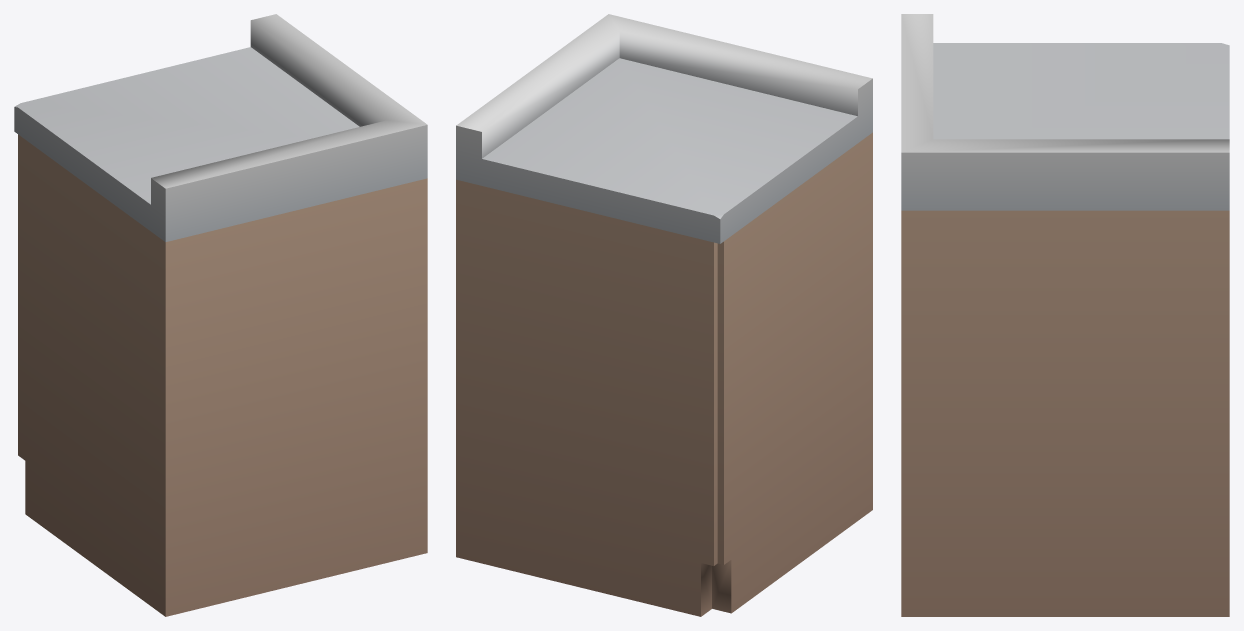
Rendered from cabinet-basic-corner.glb.
3 renders of one model, left to right at view 1: azimuth 30°, elevation 25°; view 2: azimuth 150°, elevation 25°; view 3: azimuth 270°, elevation 25°, orthographic. The views are drawn at different scales.
Visible parts, largest first — view 1: cabinet-basic-corner; view 2: cabinet-basic-corner; view 3: cabinet-basic-corner.
Boxes of the visible parts, x1=… form: cabinet-basic-corner: x1=14, y1=14, x2=427, y2=616; cabinet-basic-corner: x1=456, y1=14, x2=872, y2=616; cabinet-basic-corner: x1=901, y1=14, x2=1229, y2=616.
Size of the model in its own units: 0.5125 by 0.8 by 0.5125.
